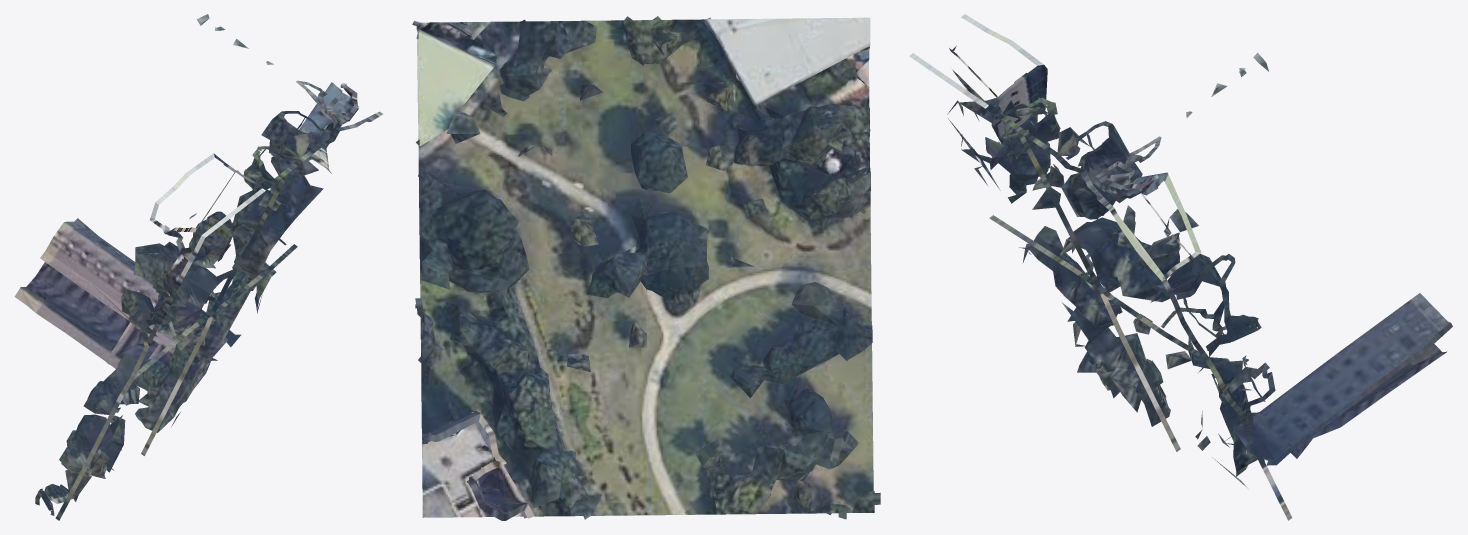
3 renders of one model, left to right at view 1: azimuth 30°, elevation 25°; view 2: azimuth 150°, elevation 25°; view 3: azimuth 270°, elevation 25°, orthographic. The views are drawn at different scales.
Bounding box in the file's own units: 80.97 × 84.65 × 93.19.
Materials: 1 (1 with a texture image).
